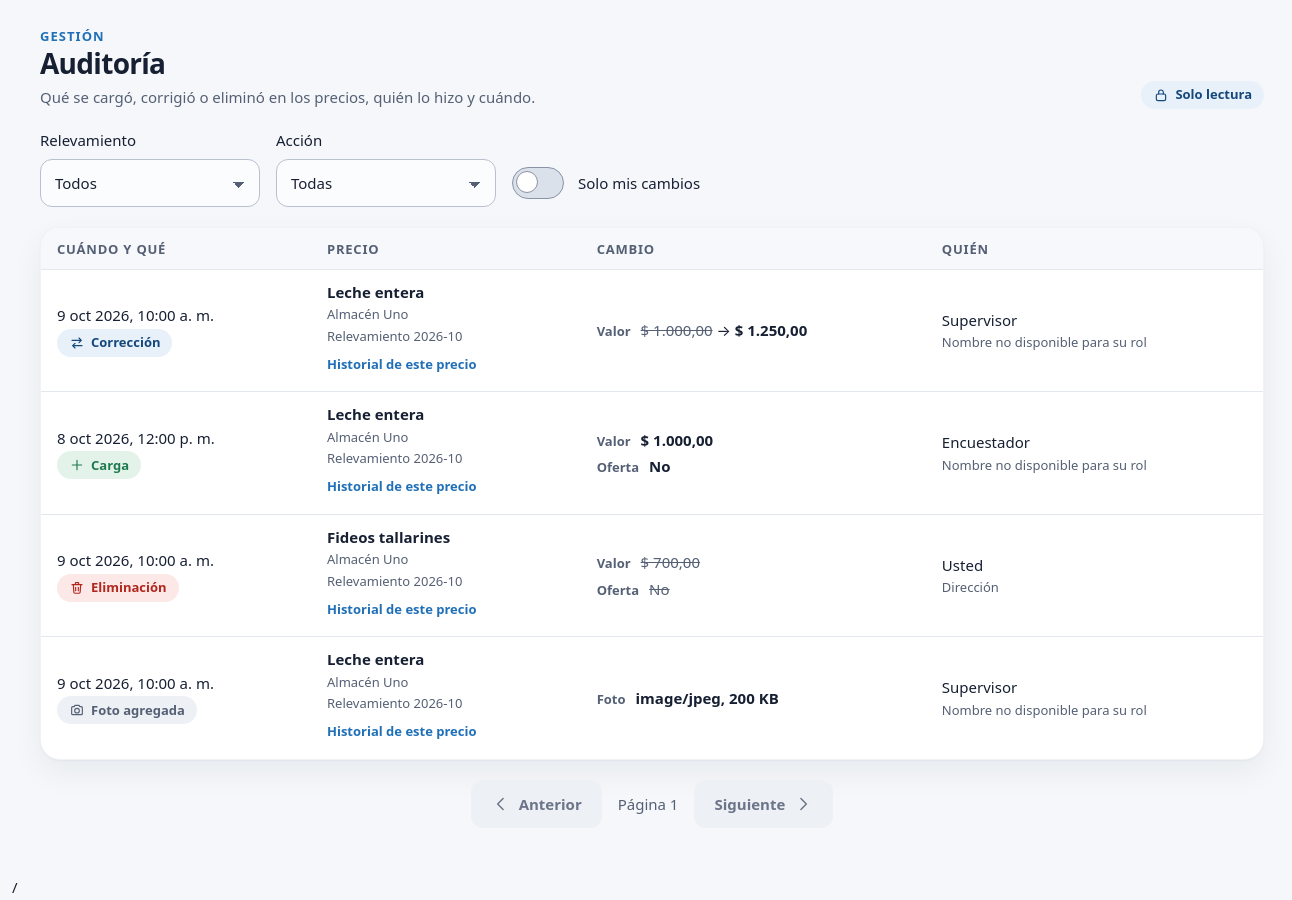
Test: filters in the URL › the other roles get "Solo mis cambios" instead of a user list
Expected: the field labelled "Usuario" is not shown
Click the switch labelled "Solo mis cambios": click(538, 184) [512,168,564,200]
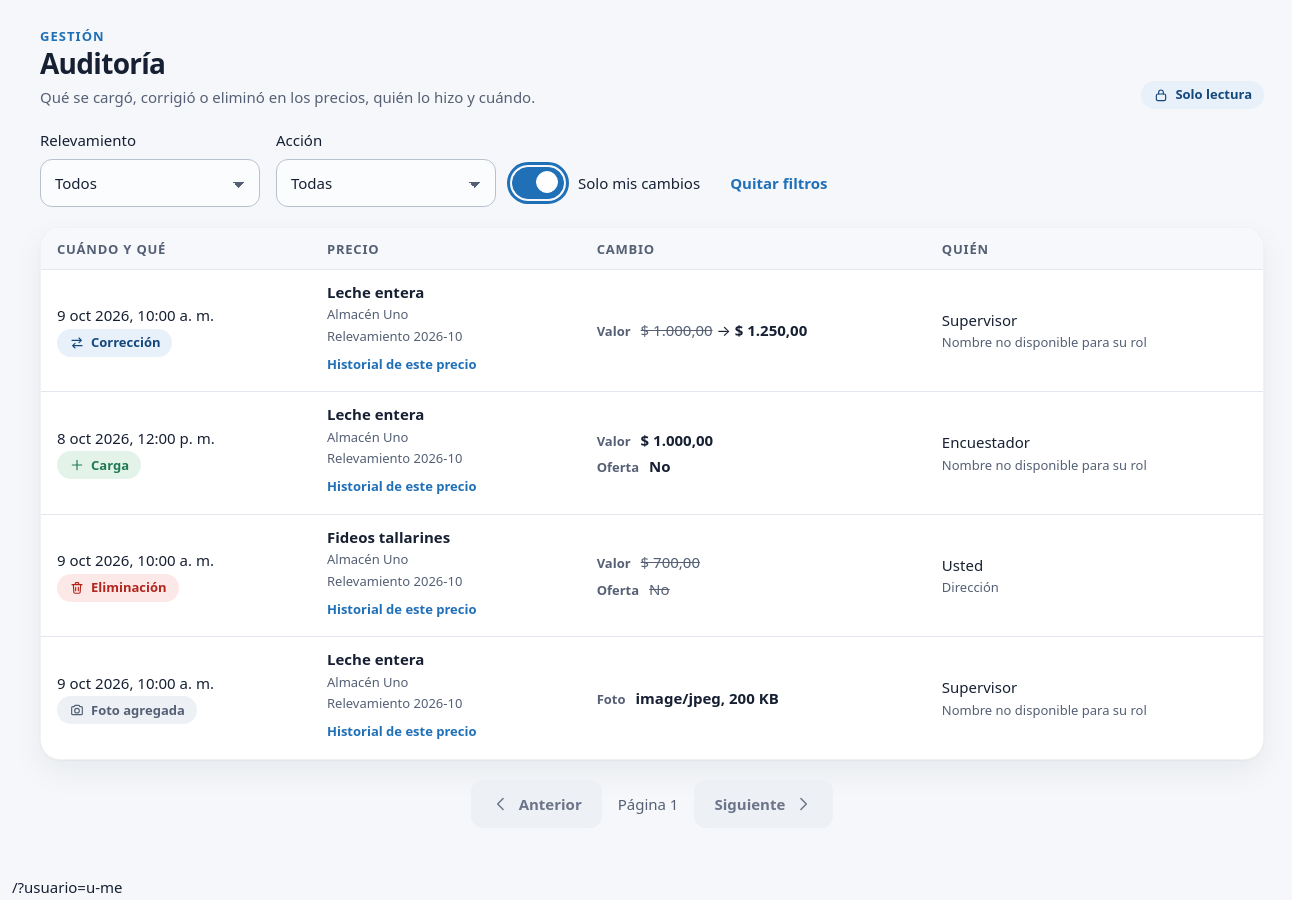
Expected: the text with test id "location" shows "usuario=u-me", [12,877,122,897]
